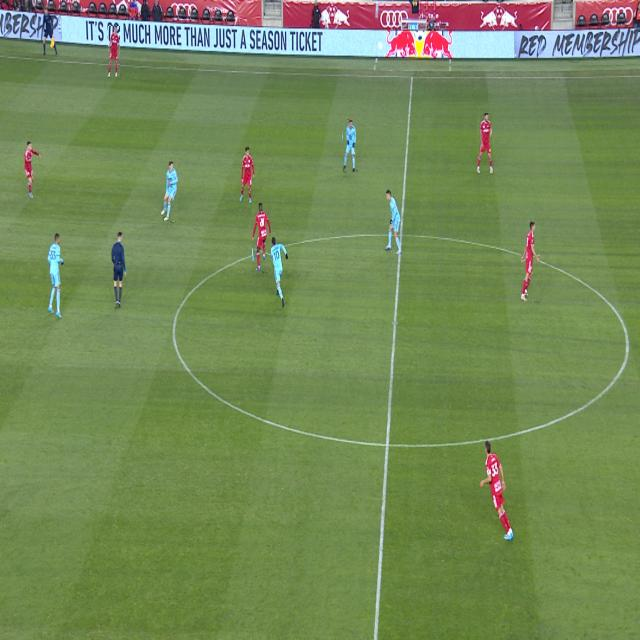player: (480, 442, 513, 539), (521, 221, 540, 301), (48, 234, 64, 318), (269, 237, 288, 306), (252, 204, 271, 271), (161, 162, 178, 221), (386, 190, 401, 254), (24, 142, 41, 197), (239, 147, 255, 203), (478, 114, 492, 172), (343, 120, 356, 172), (108, 26, 120, 78)
referee: (112, 232, 126, 307)
